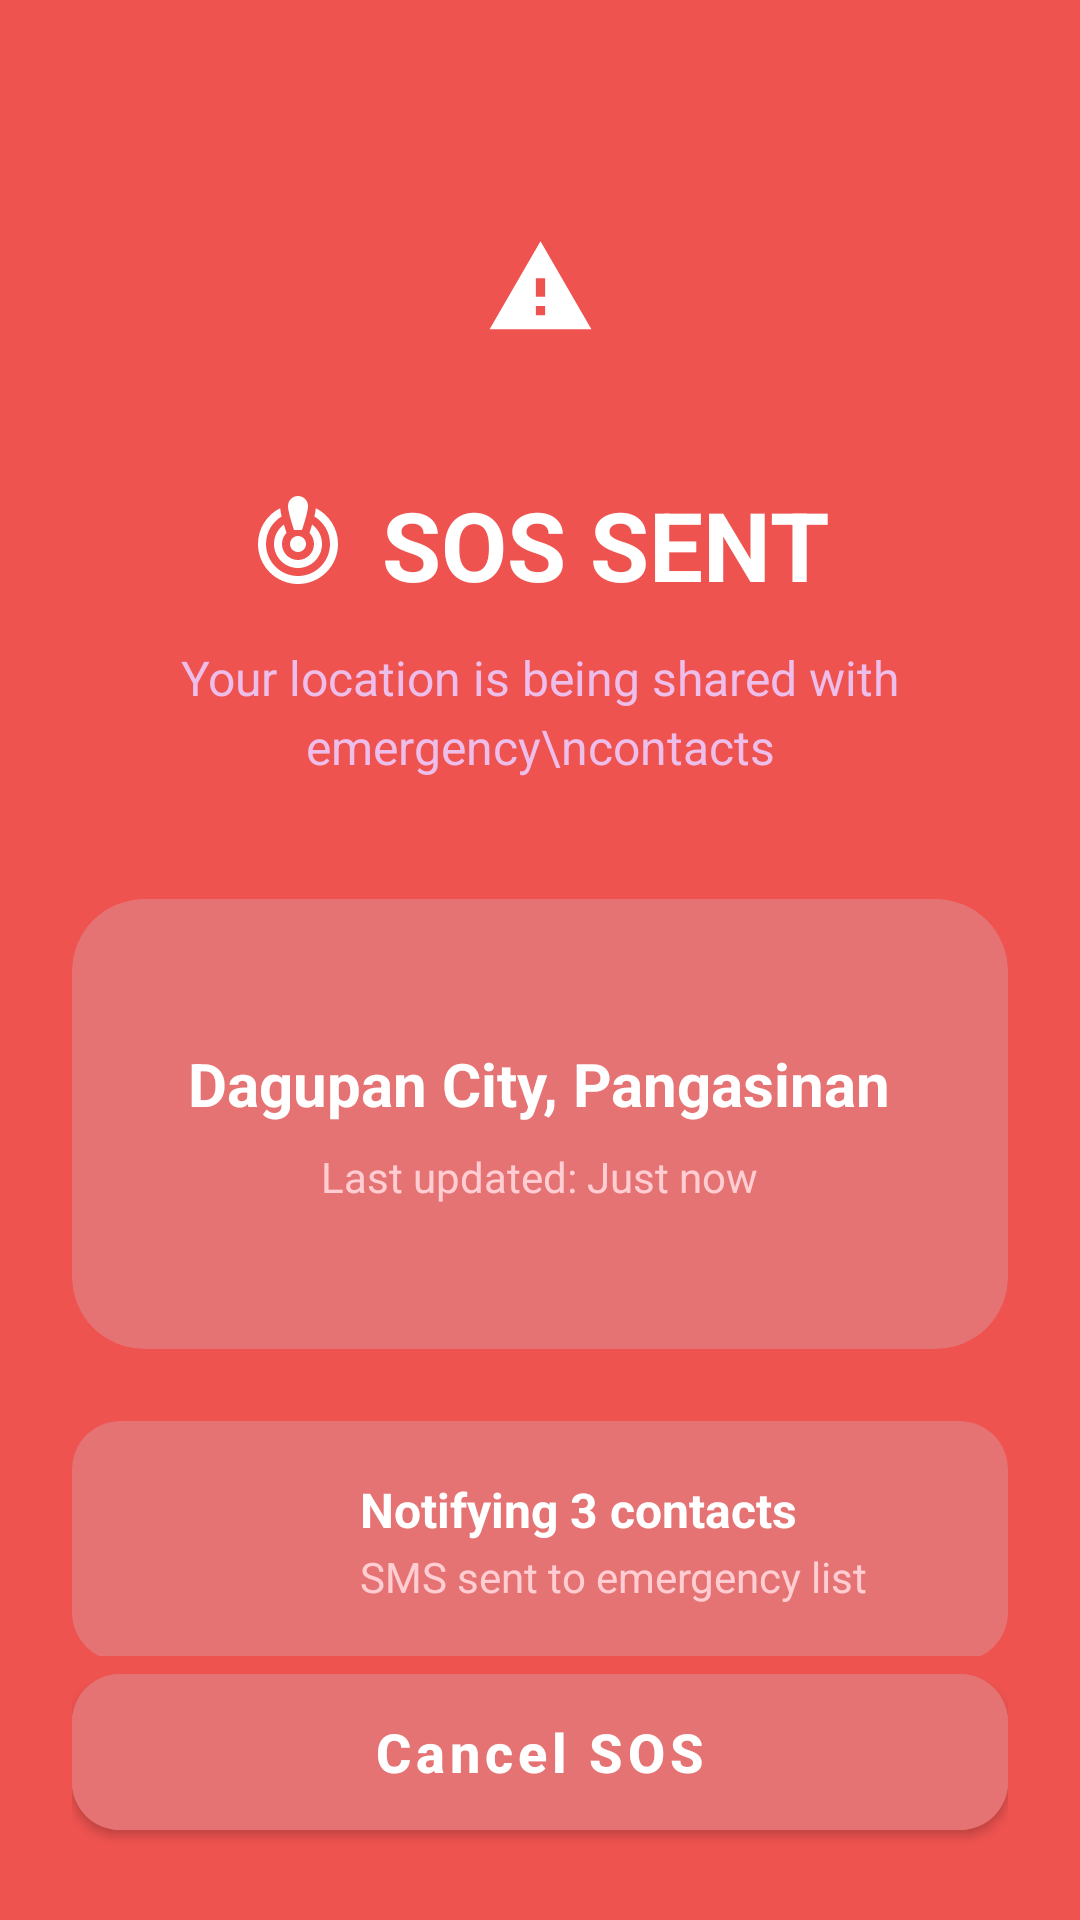

Named icons in this screenshot (1080 × 1920) and their bounding boxes, box=[x1, y1, x2, y2]:
warning: box=[490, 241, 591, 330]
